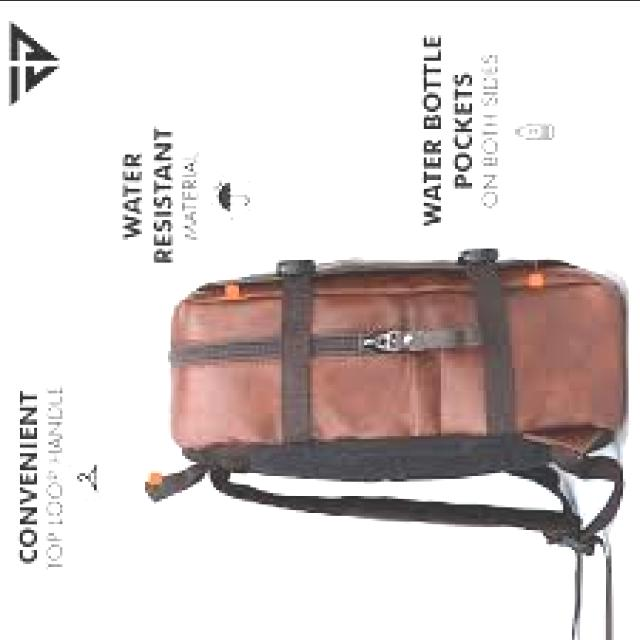backpack: (153, 239, 640, 507)
